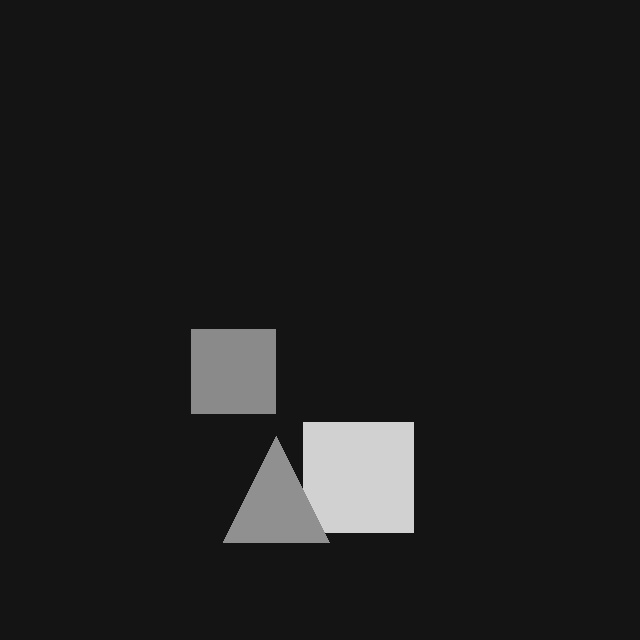square: (303, 422, 413, 532), (191, 329, 275, 413)
triangle: (223, 436, 329, 542)
